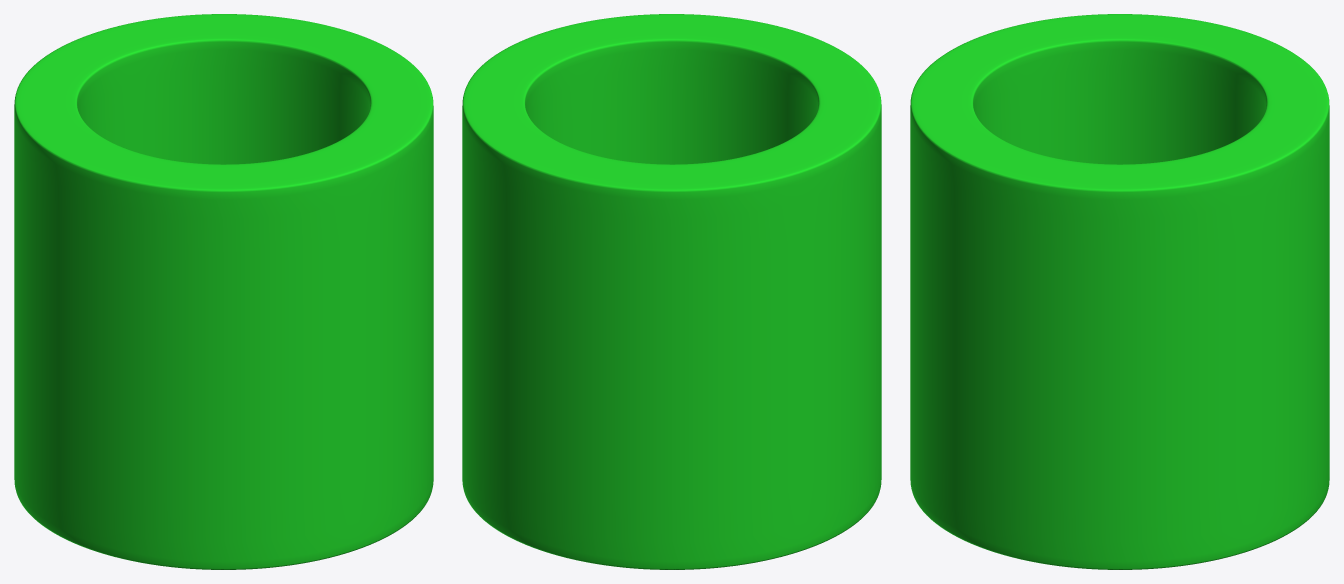
Rendered from Pipe 1.fbx.
3 views of the same model, side by side, from view 1: azimuth 30°, elevation 25°; view 2: azimuth 150°, elevation 25°; view 3: azimuth 270°, elevation 25° (orthographic).
Visible parts, largest first — view 1: Pipe; view 2: Pipe; view 3: Pipe.
Boxes of the visible parts, x1,y1,x2,y2 form: Pipe: [14, 14, 433, 569]; Pipe: [462, 14, 881, 569]; Pipe: [910, 14, 1329, 569].
Bounding box in the file's own units: 1 × 1 × 1.
